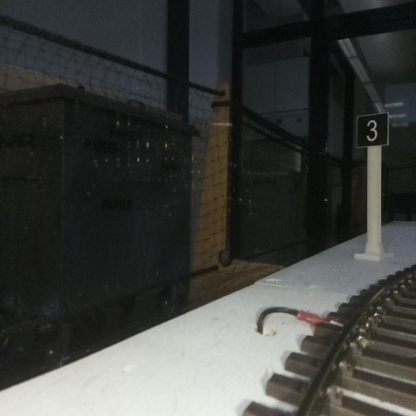black-info-3: (357, 115, 387, 259)
